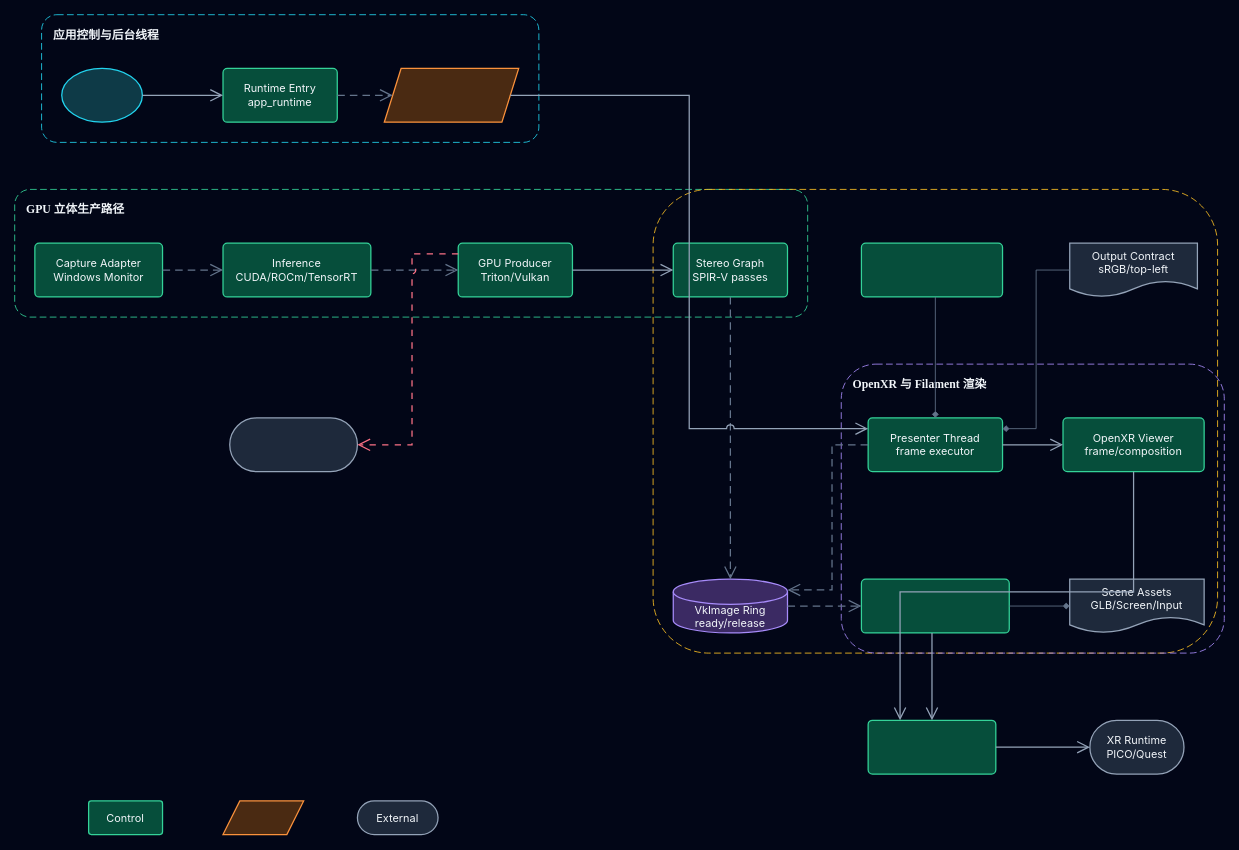
Some shapes in this 1239 by 850 pixel diagram are drawn without their labels. Each missing label, with the box of its shape:
Command Queue control commands: (383, 67, 519, 122)
Composition Projection/Quad: (867, 719, 996, 774)
Filament Bridge Engine/Scene/Views: (860, 578, 1010, 633)
Flet GUI 配置/状态: (61, 67, 143, 122)
GPU data: (222, 800, 304, 835)
OpenGL Fallback compatibility: (229, 417, 358, 472)
Vulkan Context Device/Sync/Pools: (860, 242, 1003, 297)
Vulkan Presenter 线程: (652, 189, 1218, 653)
